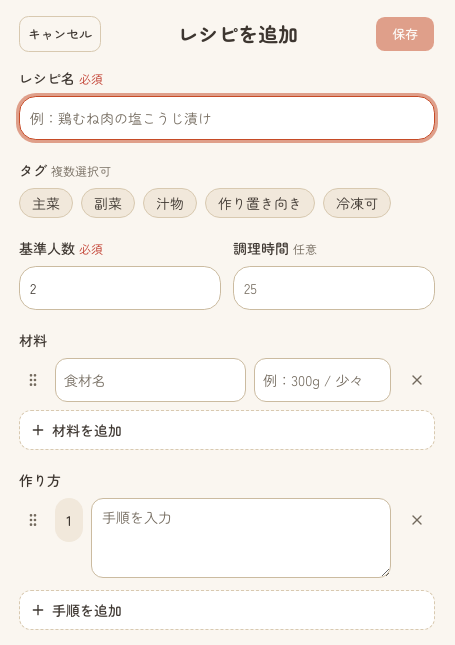
Test: RecipeFormClient › RFC-05: 通信例外のとき通信エラーメッセージを表示する
The width and height of the screenshot is (455, 645).
In the field labelled "レシピ名 必須": (227,118) [19, 96, 435, 140], type "肉じゃが"
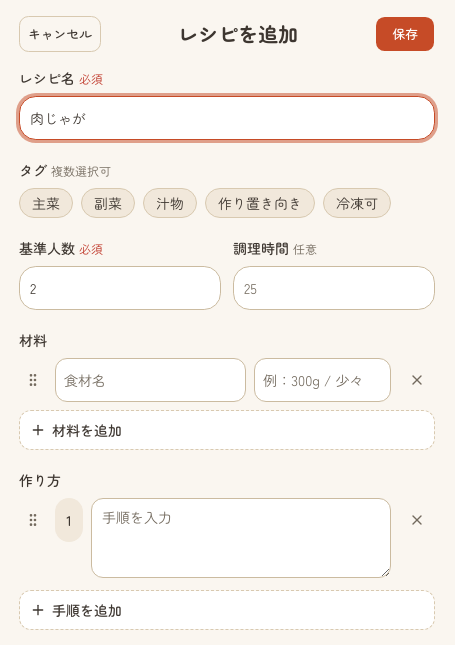
Click the button "保存": (405,34) [375, 16, 435, 52]
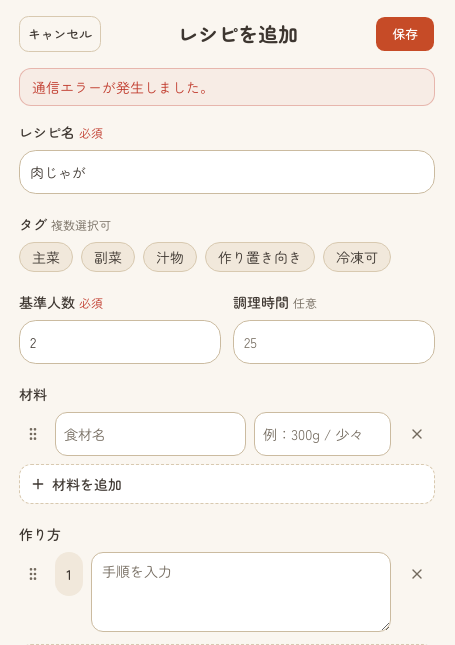
Expected: the text "通信エラーが発生しました。" is shown, [19, 68, 435, 106]
